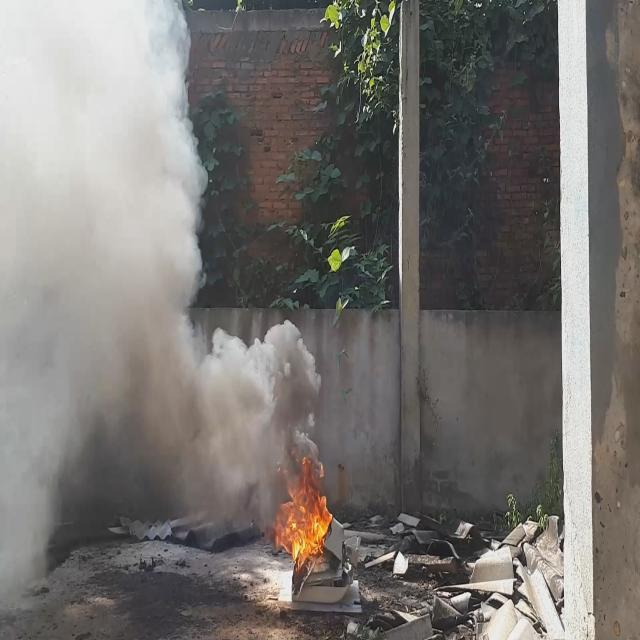Fire: (269, 456, 335, 572)
Smoke: (0, 0, 325, 595)
